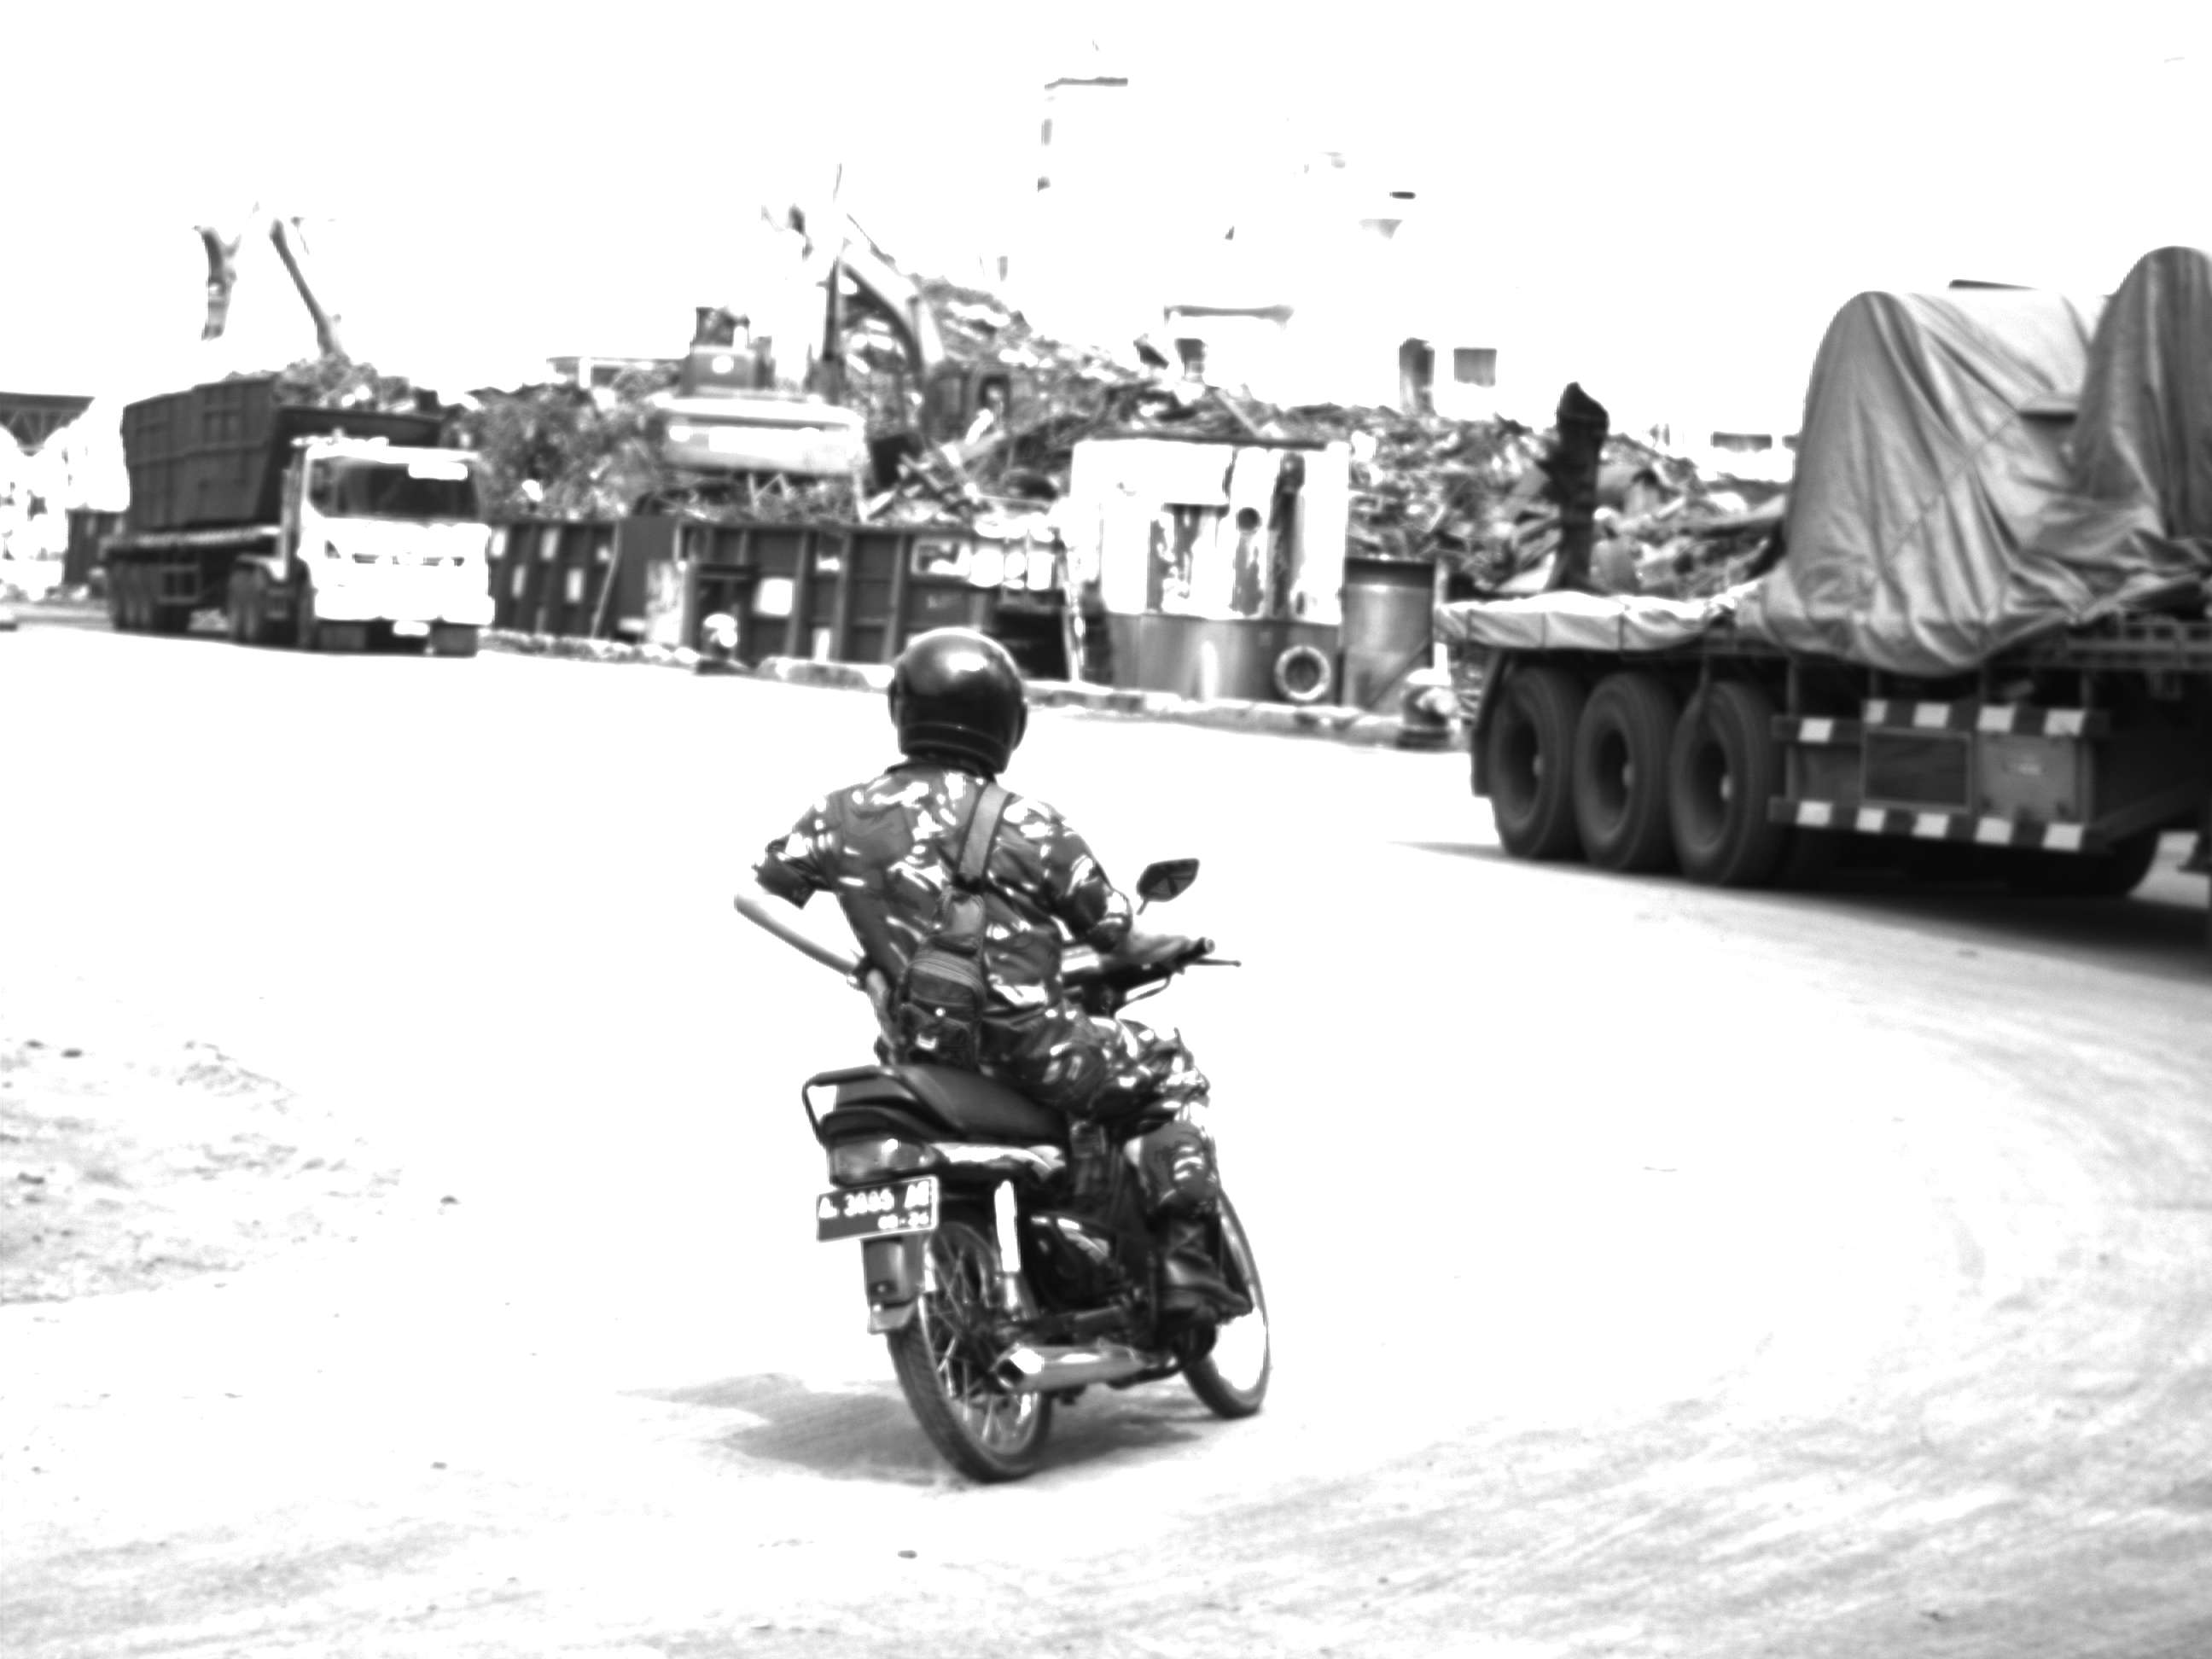motor_bike: (740, 921, 1329, 1502)
number_plate: (807, 1175, 940, 1247)
person: (728, 610, 1231, 1055)
